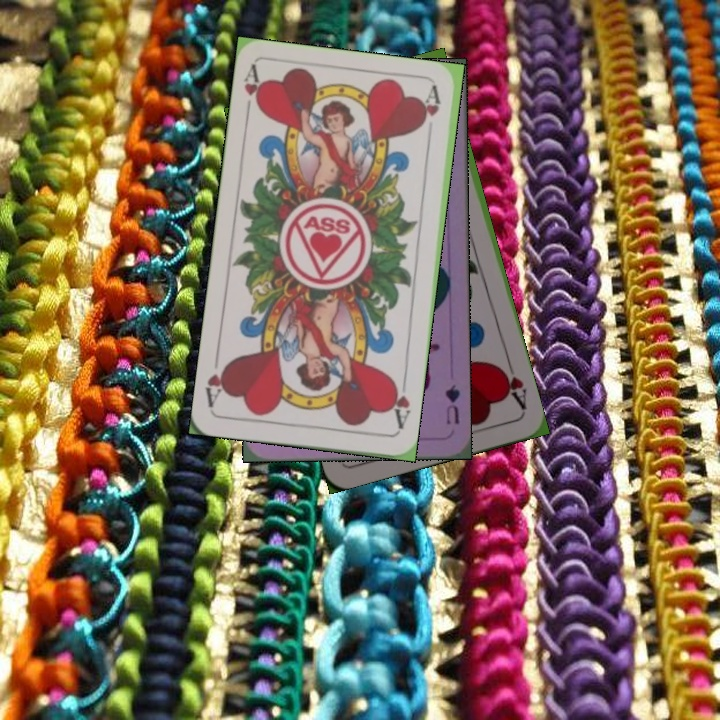GU: (441, 380, 462, 427)
HA: (494, 356, 530, 413), (239, 63, 267, 122), (386, 374, 413, 432)
